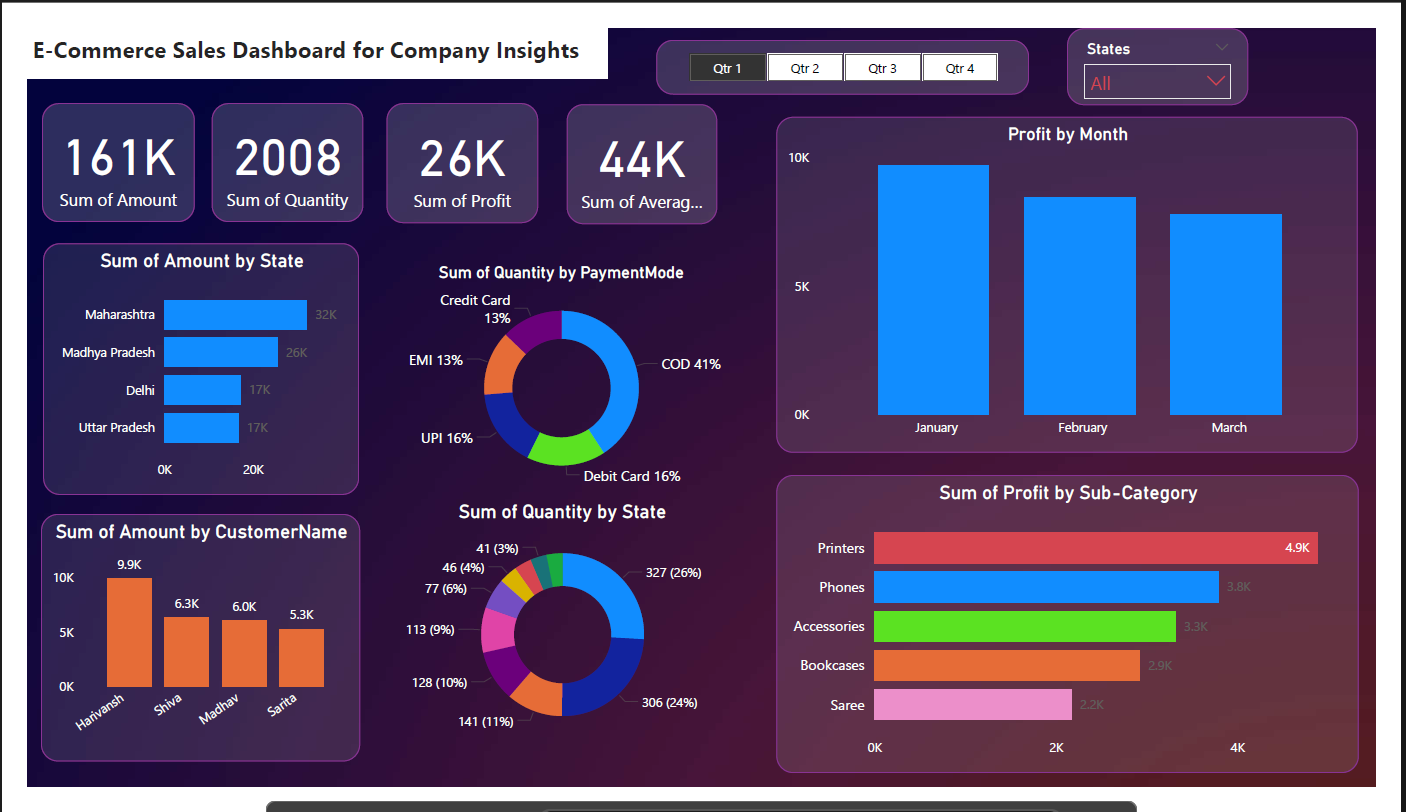

What the dashboard file says about the page in this screenshot:
{"tool":"powerbi","page":{"name":"Page 1","canvas":[1280,720],"ordinal":0},"visuals":[{"type":"textbox","box":[0,0,551.3,48.3],"z":0},{"type":"columnChart","title":"Profit by Month","fields":{"Category":["Orders.Order Date.Variation.Date Hierarchy.Month"],"Y":["Details.Profit"]},"box":[711.4,84.3,551.4,318.6],"z":1000},{"type":"clusteredBarChart","fields":{"Category":["Details.Sub-Category"],"Y":["Details.Profit"]},"box":[711.4,424.3,552.9,282.9],"z":2000},{"type":"donutChart","fields":{"Category":["Orders.State"],"Y":["Details.Quantity"]},"box":[325.7,447.6,364.3,234],"z":3000},{"type":"donutChart","fields":{"Category":["Details.PaymentMode"],"Y":["Details.Quantity"]},"box":[336.6,222,340.2,220.8],"z":4000},{"type":"card","fields":{"Values":["Details.Amount"]},"box":[14.5,71.2,144.5,113.2],"z":5000},{"type":"card","fields":{"Values":["Details.Profit"]},"box":[340.9,71.4,144,113.4],"z":6000},{"type":"card","fields":{"Values":["Details.Average_O_Value"]},"box":[511.8,72.4,143.6,113.4],"z":7000},{"type":"card","fields":{"Values":["Details.Quantity"]},"box":[174.9,71.2,144,113],"z":8000},{"type":"clusteredBarChart","fields":{"Y":["Details.Amount"],"Category":["Orders.State"]},"box":[15,203.8,300,238.8],"z":9000},{"type":"columnChart","fields":{"Category":["Orders.CustomerName"],"Y":["Details.Amount"]},"box":[12.5,461.2,303.8,235],"z":10000},{"type":"slicer","fields":{"Values":["Orders.Order Date.Variation.Date Hierarchy.Quarter"]},"box":[597.1,11.4,354.3,51.4],"z":11000},{"type":"slicer","fields":{"Values":["Orders.State"]},"box":[987.1,0,171.4,72.9],"z":12000}]}

Visuals, with their boxes in screenshot pixels (x1, y1, x2, y2), scaled from the page's 1280x720 canvas onto the 1406x812 screenshot:
textbox: Rect(0, 0, 606, 54)
"Profit by Month" columnChart: Rect(781, 95, 1387, 454)
clusteredBarChart - Details.Sub-Category x Details.Profit: Rect(781, 479, 1389, 798)
donutChart - Orders.State x Details.Quantity: Rect(358, 505, 758, 769)
donutChart - Details.PaymentMode x Details.Quantity: Rect(370, 250, 743, 499)
card - Details.Amount: Rect(16, 80, 175, 208)
card - Details.Profit: Rect(374, 81, 533, 208)
card - Details.Average_O_Value: Rect(562, 82, 720, 210)
card - Details.Quantity: Rect(192, 80, 350, 208)
clusteredBarChart - Details.Amount x Orders.State: Rect(16, 230, 346, 499)
columnChart - Orders.CustomerName x Details.Amount: Rect(14, 520, 347, 785)
slicer - Orders.Order Date.Variation.Date Hierarchy.Quarter: Rect(656, 13, 1045, 71)
slicer - Orders.State: Rect(1084, 0, 1273, 82)
